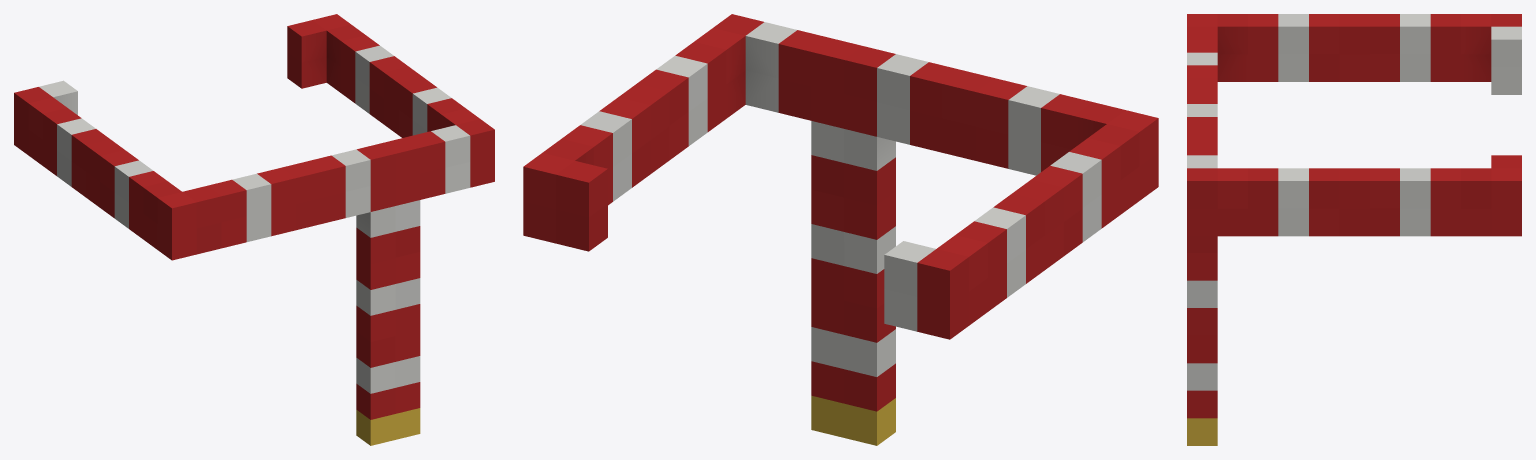
File: face_scarf.glb
3 renders of one model, left to right at view 1: azimuth 30°, elevation 25°; view 2: azimuth 150°, elevation 25°; view 3: azimuth 270°, elevation 25°, orthographic. The views are drawn at different scales.
Parts seen in each view (by area): view 1: Face; view 2: Face; view 3: Face.
Boxes of the visible parts, box(x1,y1,x2,y2) form: Face: box(14, 14, 494, 445); Face: box(523, 14, 1158, 445); Face: box(1187, 14, 1521, 445).
Bounding box in the file's own units: 1.43 × 1.21 × 1.21.
